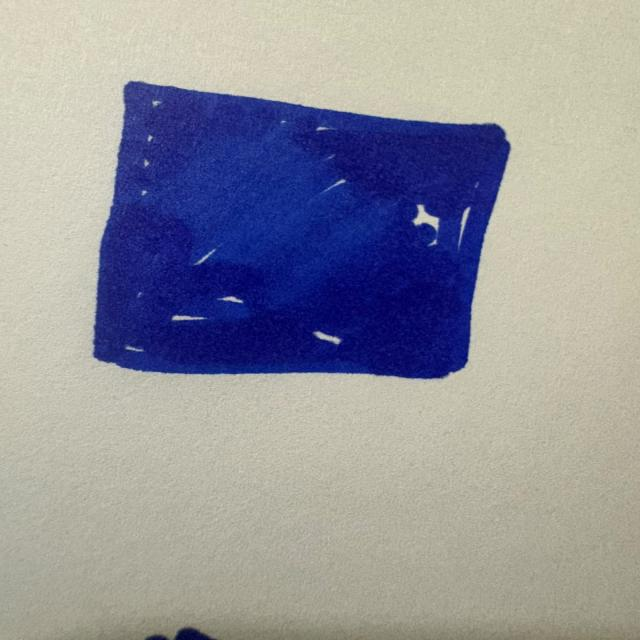Square: (92, 82, 510, 381)
